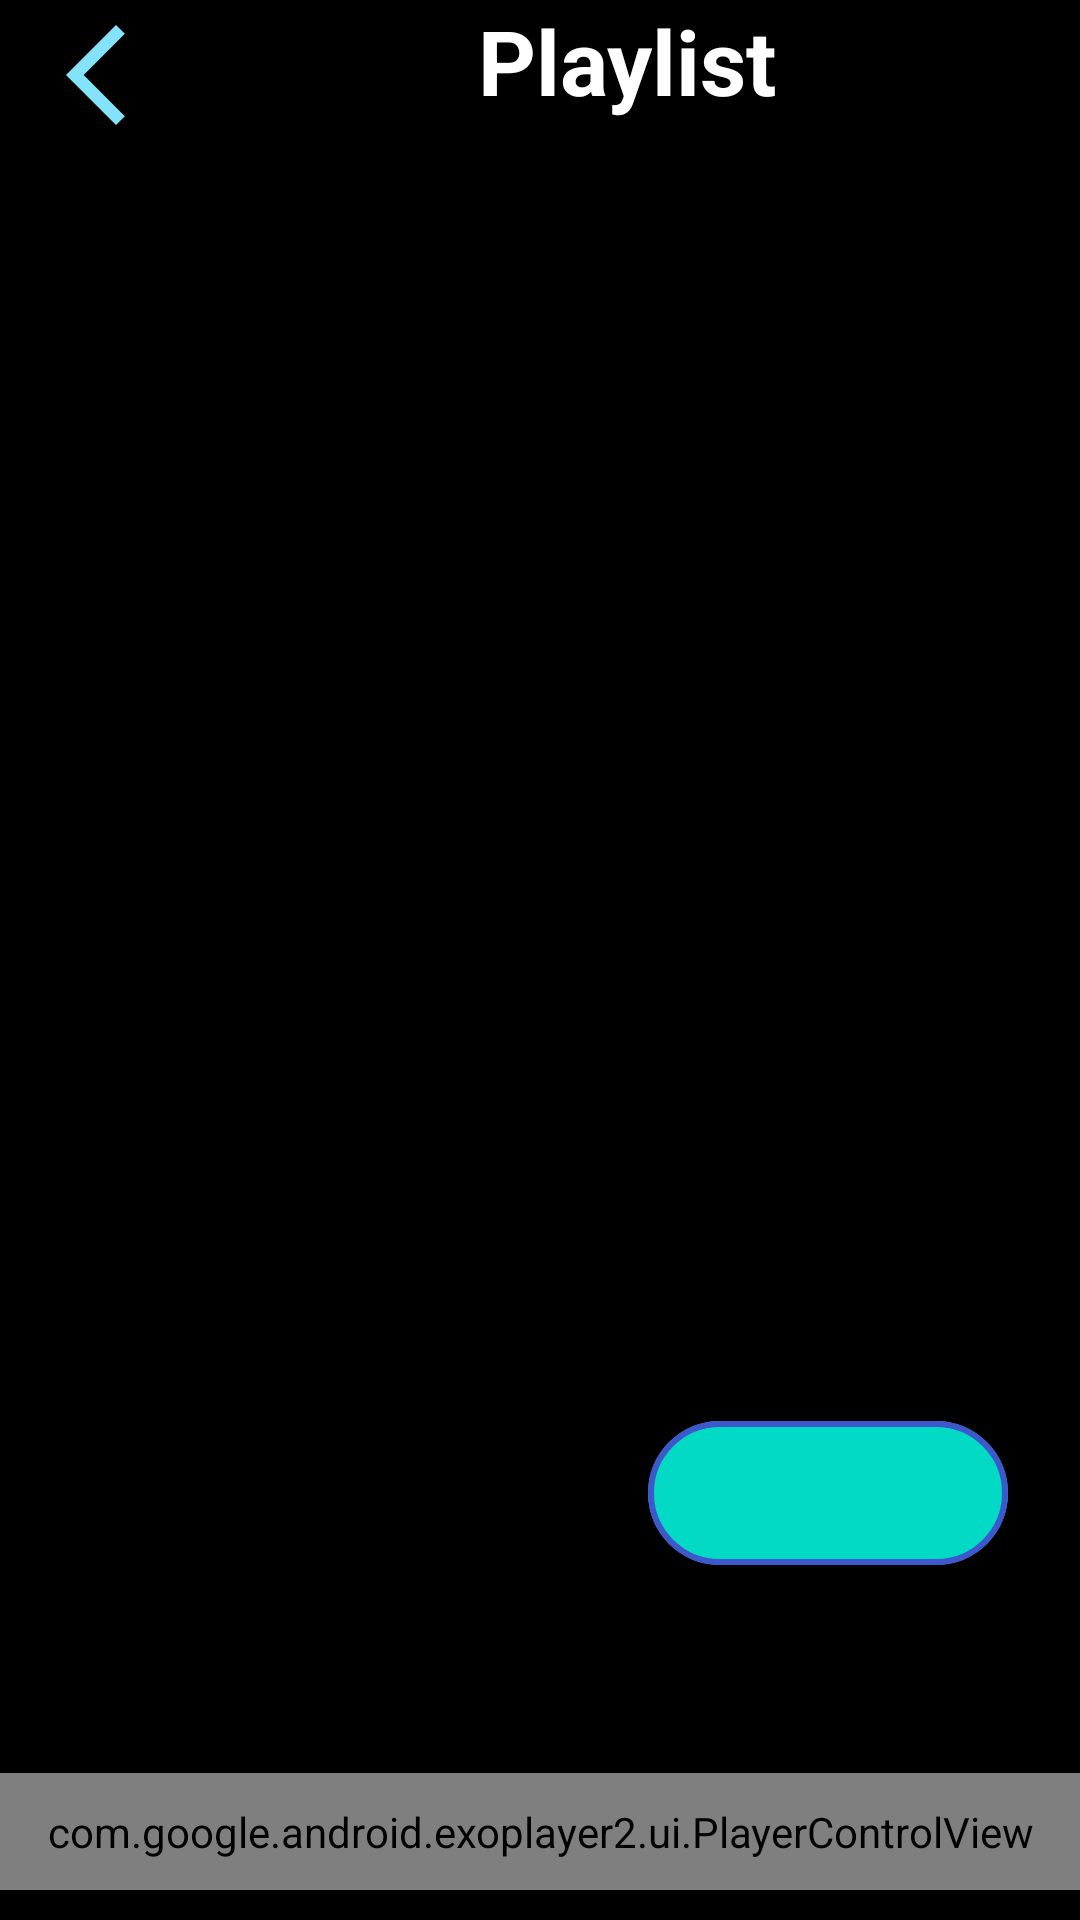

Icon bounding boxes for this 1080x1920 phone screenshot, format bbox=[x1, y1, x2, y2]:
arrow back: bbox=[66, 25, 125, 125]
